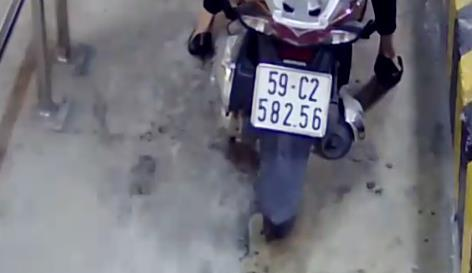lisence: (250, 62, 332, 137)
